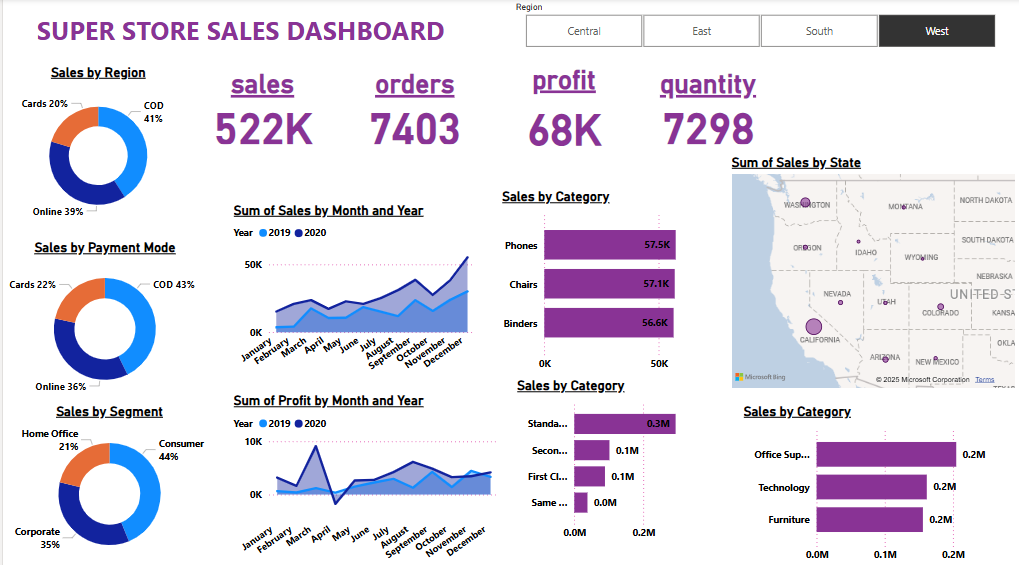

The page's visual inventory and layout, read from the dashboard file:
{"tool":"powerbi","page":{"name":"dashboard","canvas":[1280,720],"ordinal":0},"visuals":[{"type":"clusteredBarChart","title":"Sales by Category","fields":{"Category":["SuperStore_Sales_Dataset (1).Category"],"Y":["Sum(SuperStore_Sales_Dataset (1).Sales)"]},"box":[927.9,510.2,336.4,209.8],"z":0},{"type":"clusteredBarChart","title":"Sales by Category","fields":{"Y":["Sum(SuperStore_Sales_Dataset (1).Sales)"],"Category":["SuperStore_Sales_Dataset (1).Sub-Category"]},"box":[623.6,240,274,238.1],"z":1000},{"type":"clusteredBarChart","title":"Sales by Category","fields":{"Y":["Sum(SuperStore_Sales_Dataset (1).Sales)"],"Category":["SuperStore_Sales_Dataset (1).Ship Mode"]},"box":[642.5,478.1,255.1,213.5],"z":2000},{"type":"areaChart","fields":{"Y":["Sum(SuperStore_Sales_Dataset (1).Sales)"],"Series":["SuperStore_Sales_Dataset (1).Order Date.Variation.Date Hierarchy.Year"],"Category":["SuperStore_Sales_Dataset (1).Order Date.Variation.Date Hierarchy.Month","SuperStore_Sales_Dataset (1).Order Date.Variation.Date Hierarchy.Day"]},"box":[285.4,257,313.7,224.9],"z":3000},{"type":"areaChart","fields":{"Category":["SuperStore_Sales_Dataset (1).Order Date.Variation.Date Hierarchy.Month","SuperStore_Sales_Dataset (1).Order Date.Variation.Date Hierarchy.Day"],"Y":["Sum(SuperStore_Sales_Dataset (1).Profit)"],"Series":["SuperStore_Sales_Dataset (1).Order Date.Variation.Date Hierarchy.Year"]},"box":[285.4,497,343.9,223],"z":4000},{"type":"map","fields":{"Category":["SuperStore_Sales_Dataset (1).State"],"Size":["Sum(SuperStore_Sales_Dataset (1).Sales)"]},"box":[912.8,196.5,366.6,300.5],"z":5000},{"type":"donutChart","title":"Sales by Segment","fields":{"Category":["SuperStore_Sales_Dataset (1).Segment"],"Y":["Sum(SuperStore_Sales_Dataset (1).Sales)"]},"box":[11.3,510.2,245.7,209.8],"z":6000},{"type":"donutChart","title":"Sales by Payment Mode","fields":{"Category":["SuperStore_Sales_Dataset (1).Payment Mode"],"Y":["Sum(SuperStore_Sales_Dataset (1).Sales)"]},"box":[0,304.3,257,206],"z":7000},{"type":"slicer","fields":{"Values":["SuperStore_Sales_Dataset (1).Region"]},"box":[633.1,0,640.6,68],"z":8000},{"type":"textbox","box":[0,13.2,599.1,69.9],"z":9000},{"type":"card","title":"sales","fields":{"Values":["Sum(SuperStore_Sales_Dataset (1).Sales)"]},"box":[257,81.3,141.7,100.2],"z":10000},{"type":"card","title":"profit","fields":{"Values":["Sum(SuperStore_Sales_Dataset (1).Profit)"]},"box":[712.4,83.2,166.3,113.4],"z":11000},{"type":"card","title":"orders","fields":{"Values":["Sum(SuperStore_Sales_Dataset (1).AvgDelivery)"]},"box":[468.7,83.2,160.6,100.2],"z":12000},{"type":"card","title":"quantity","fields":{"Values":["Sum(SuperStore_Sales_Dataset (1).Quantity)"]},"box":[997.8,81.3,132.3,100.2],"z":13000},{"type":"donutChart","title":"Sales by Region","fields":{"Y":["CountNonNull(SuperStore_Sales_Dataset (1).Region)"],"Category":["SuperStore_Sales_Dataset (1).Payment Mode"]},"box":[11.3,83.2,217.3,211.7],"z":14000}]}

Visuals, with their boxes in screenshot pixels (x1, y1, x2, y2), scaled from the page's 1280x720 canvas onto the 1019x565 screenshot:
"Sales by Category" clusteredBarChart: 739, 400, 1007, 564
"Sales by Category" clusteredBarChart: 496, 188, 715, 375
"Sales by Category" clusteredBarChart: 511, 375, 715, 543
areaChart - Sum(SuperStore_Sales_Dataset (1).Sales) x SuperStore_Sales_Dataset (1).Order Date.Variation.Date Hierarchy.Year: 227, 202, 477, 378
areaChart - SuperStore_Sales_Dataset (1).Order Date.Variation.Date Hierarchy.Month x SuperStore_Sales_Dataset (1).Order Date.Variation.Date Hierarchy.Day: 227, 390, 501, 564
map - SuperStore_Sales_Dataset (1).State x Sum(SuperStore_Sales_Dataset (1).Sales): 727, 154, 1018, 390
"Sales by Segment" donutChart: 9, 400, 205, 564
"Sales by Payment Mode" donutChart: 0, 239, 205, 400
slicer - SuperStore_Sales_Dataset (1).Region: 504, 0, 1014, 53
textbox: 0, 10, 477, 65
"sales" card: 205, 64, 317, 142
"profit" card: 567, 65, 700, 154
"orders" card: 373, 65, 501, 144
"quantity" card: 794, 64, 900, 142
"Sales by Region" donutChart: 9, 65, 182, 231
